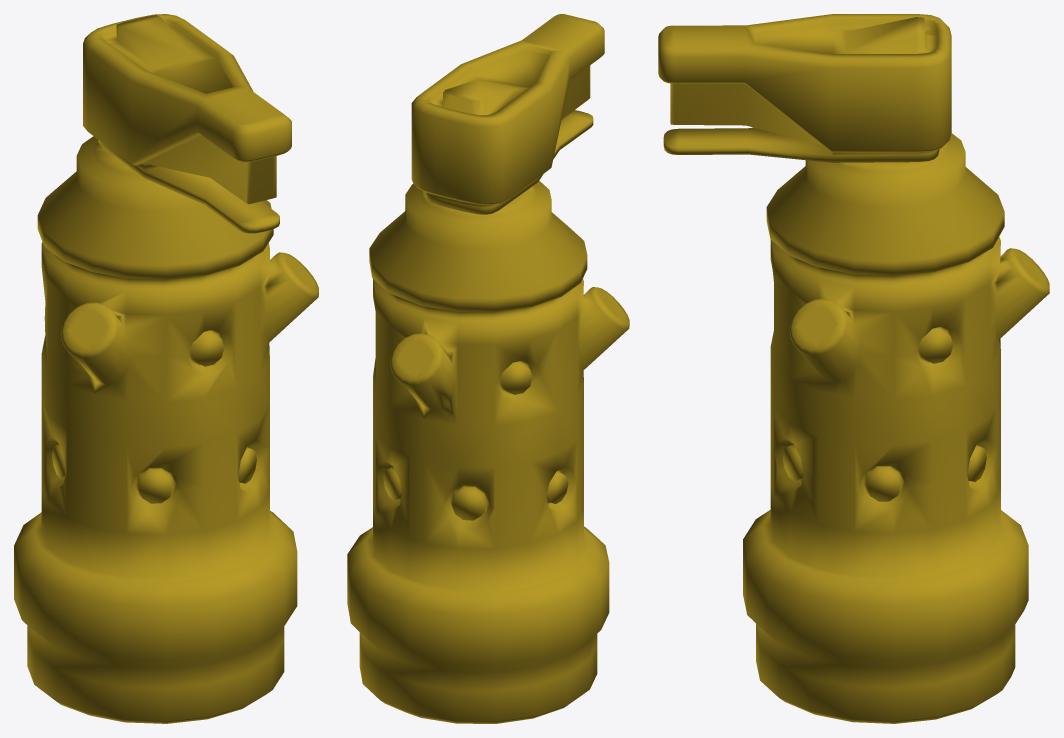
File: grenade.obj
The picture shows the model from 3 angles, left to right: view 1: azimuth 30°, elevation 25°; view 2: azimuth 150°, elevation 25°; view 3: azimuth 270°, elevation 25°; orthographic projection. The views are drawn at different scales.
Visible parts, largest first — view 1: grenade; view 2: grenade; view 3: grenade.
Boxes of the visible parts, box(x1,y1,x2,y2) form: grenade: box(14, 14, 318, 723); grenade: box(347, 14, 629, 723); grenade: box(658, 14, 1049, 723).
Size of the model in its own units: 4.63 by 11.16 by 6.14.
